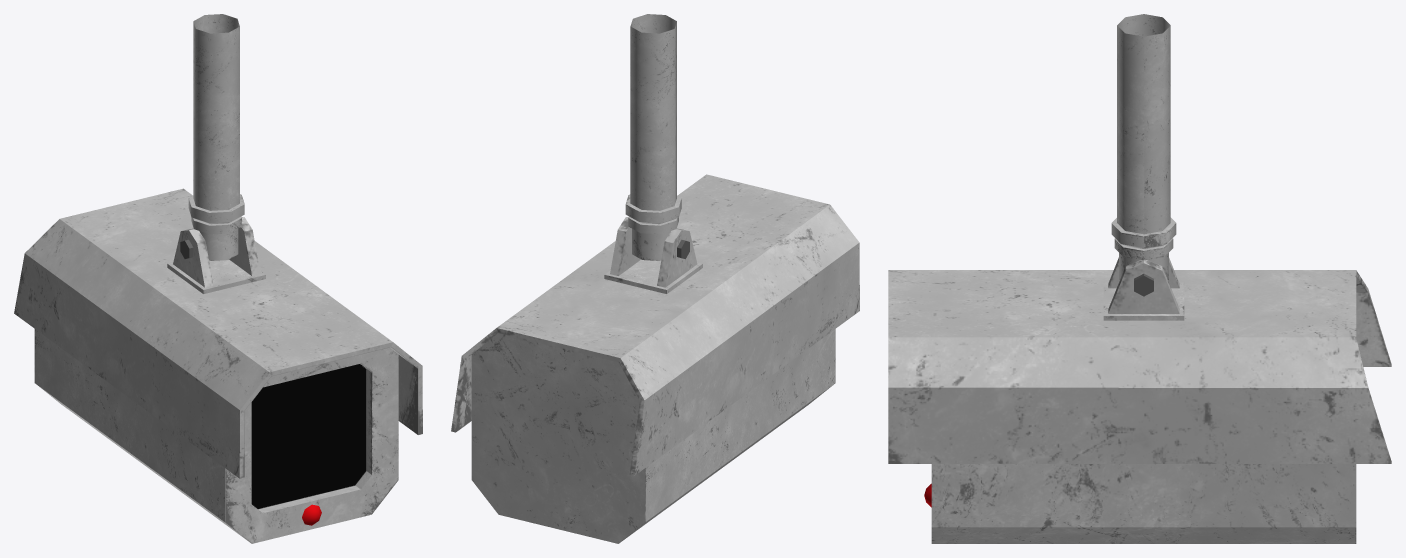
File: CCTV_Roof.fbx
3 renders of one model, left to right at view 1: azimuth 30°, elevation 25°; view 2: azimuth 150°, elevation 25°; view 3: azimuth 270°, elevation 25°, orthographic. The views are drawn at different scales.
Visible parts, largest first — view 1: Camera Pivot, Leg; view 2: Camera Pivot, Leg; view 3: Camera Pivot, Leg.
Boxes of the visible parts, x1,y1,x2,y2 form: Camera Pivot: (14, 188, 422, 543); Leg: (188, 14, 244, 260); Camera Pivot: (451, 174, 859, 543); Leg: (625, 14, 681, 260); Camera Pivot: (888, 257, 1391, 543); Leg: (1111, 14, 1176, 279).
Bounding box in the file's own units: 75.87 × 172 × 162.
Materials: 2 (1 with a texture image).
